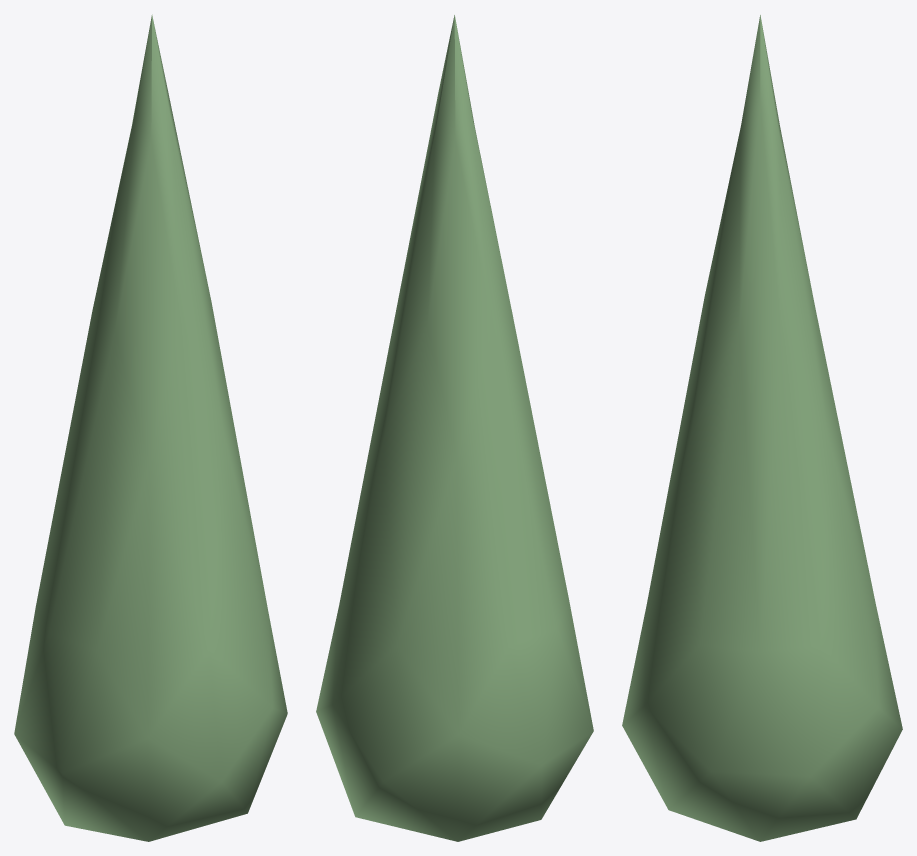
File: tree-conifer-c-crown-far.glb
3 views of the same model, side by side, from view 1: azimuth 30°, elevation 25°; view 2: azimuth 150°, elevation 25°; view 3: azimuth 270°, elevation 25° (orthographic).
Visible parts, largest first — view 1: tree-conifer-c-crown-far; view 2: tree-conifer-c-crown-far; view 3: tree-conifer-c-crown-far.
Part boxes in pixels (x1,y1,x2,y2): tree-conifer-c-crown-far: (14, 14, 287, 841); tree-conifer-c-crown-far: (316, 15, 593, 841); tree-conifer-c-crown-far: (622, 15, 902, 841).
Bounding box in the file's own units: 0.1906 × 0.6562 × 0.2037.
